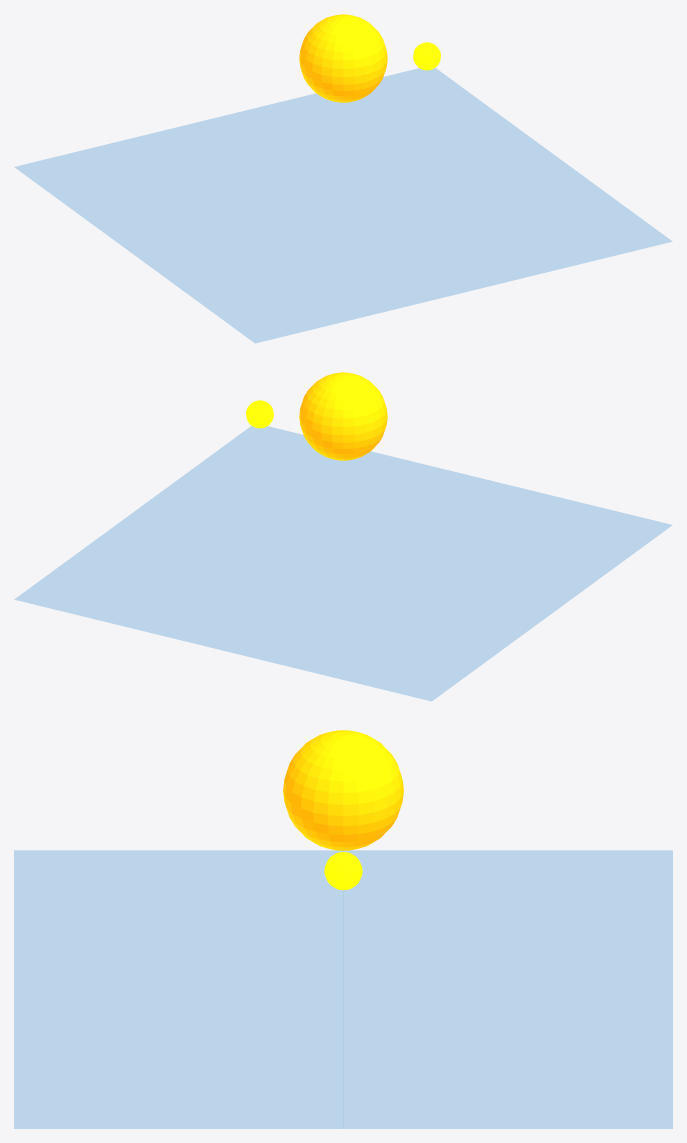
The model's file is general_relativity.glb.
3 views of the same model, one above another, from view 1: azimuth 30°, elevation 25°; view 2: azimuth 150°, elevation 25°; view 3: azimuth 270°, elevation 25° (orthographic). The views are drawn at different scales.
Parts seen in each view (by area): view 1: Spacetime_Sheet, Central_Sphere, Orbiting_Ball; view 2: Spacetime_Sheet, Central_Sphere, Orbiting_Ball; view 3: Spacetime_Sheet, Central_Sphere, Orbiting_Ball.
Part boxes in pixels (box(x1,y1,x2,y2)): Spacetime_Sheet: box(15, 68, 672, 343); Central_Sphere: box(299, 14, 387, 102); Orbiting_Ball: box(413, 42, 440, 70); Spacetime_Sheet: box(14, 426, 671, 701); Central_Sphere: box(299, 372, 387, 460); Orbiting_Ball: box(246, 400, 273, 428); Spacetime_Sheet: box(14, 850, 672, 1128); Central_Sphere: box(283, 730, 403, 850); Orbiting_Ball: box(324, 852, 362, 890).
Size of the model in its own units: 12 by 5.1 by 12.
